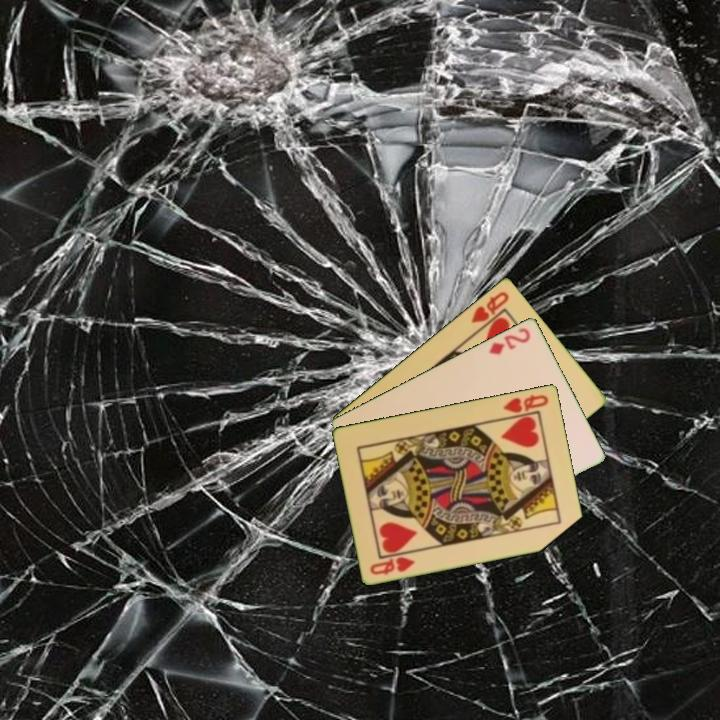2d: (485, 324, 533, 357)
Qh: (468, 287, 512, 326), (499, 391, 551, 420), (366, 553, 418, 578)
